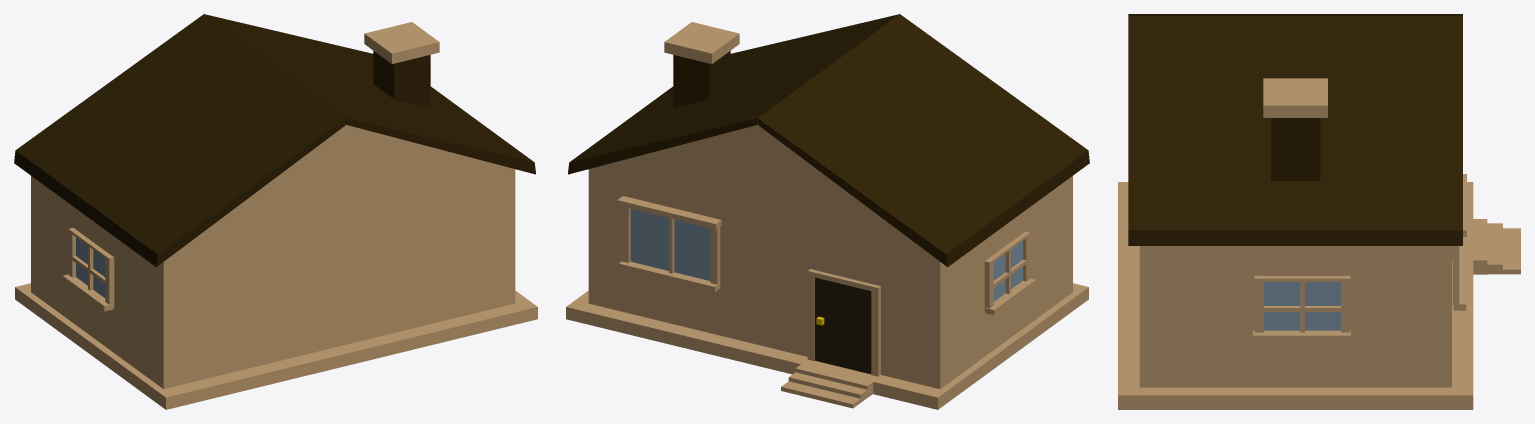
Rendered from Basic Long House Brown Roof.fbx.
The picture shows the model from 3 angles, left to right: view 1: azimuth 30°, elevation 25°; view 2: azimuth 150°, elevation 25°; view 3: azimuth 270°, elevation 25°; orthographic projection. The views are drawn at different scales.
Visible parts, largest first — view 1: pasted__pasted__pasted__pasted__pCube1 (×2), pasted__pasted__pasted__pCube1, pasted__pasted__pCube1 (×2), pasted__pCube1, pasted__pCube2, pasted__pasted__pCube2, pasted__pasted__pasted__pasted__pasted__pasted__pCube1 (×2), pasted__pasted__pasted__pasted__pasted__pCube1; view 2: pasted__pasted__pasted__pCube1 (×3), pasted__pasted__pCube1 (×5), pasted__pCube1, pasted__pasted__pasted__pasted__pasted__pCube1 (×2), pasted__pCube2, pasted__pasted__pasted__pasted__pasted__pasted__pCube1 (×3), pasted__pasted__pCube2, pasted__pasted__pasted__pasted__pasted__pasted__pasted__pCub (×2), pasted__pasted__pasted__pasted__pCube1; view 3: pasted__pasted__pCube1 (×2), pasted__pasted__pasted__pCube1 (×2), pasted__pCube1, pasted__pasted__pasted__pasted__pCube1 (×3), pasted__pCube2, pasted__pasted__pCube2, pasted__pasted__pasted__pasted__pasted__pasted__pCube1 (×2), pasted__pasted__pCube3, pasted__pasted__pasted__pasted__pasted__pasted__pasted__pCub.
Boxes of the visible parts, box(x1,y1,x2,y2) form: pasted__pasted__pasted__pasted__pCube1 (×2): box(68, 124, 514, 388); pasted__pasted__pasted__pCube1: box(14, 14, 346, 267); pasted__pasted__pCube1 (×2): box(31, 14, 535, 389); pasted__pCube1: box(15, 283, 537, 409); pasted__pCube2: box(373, 51, 430, 107); pasted__pasted__pCube2: box(364, 22, 439, 63); pasted__pasted__pasted__pasted__pasted__pasted__pCube1 (×2): box(62, 254, 114, 311); pasted__pasted__pasted__pasted__pasted__pCube1: box(76, 237, 105, 297); pasted__pasted__pasted__pCube1 (×3): box(588, 14, 1089, 388); pasted__pasted__pCube1 (×5): box(568, 14, 1072, 408); pasted__pCube1: box(566, 283, 1088, 409); pasted__pasted__pasted__pasted__pasted__pCube1 (×2): box(630, 209, 1022, 301); pasted__pCube2: box(673, 51, 730, 107); pasted__pasted__pasted__pasted__pasted__pasted__pCube1 (×3): box(619, 226, 1035, 315); pasted__pasted__pCube2: box(664, 22, 739, 63); pasted__pasted__pasted__pasted__pasted__pasted__pasted__pCub (×2): box(617, 196, 721, 262); pasted__pasted__pasted__pasted__pCube1: box(984, 234, 1026, 311); pasted__pasted__pCube1 (×2): box(1128, 16, 1520, 274); pasted__pasted__pasted__pCube1 (×2): box(1128, 14, 1462, 387); pasted__pCube1: box(1118, 182, 1473, 409); pasted__pasted__pasted__pasted__pCube1 (×3): box(1254, 275, 1350, 332); pasted__pCube2: box(1271, 118, 1320, 180); pasted__pasted__pCube2: box(1263, 78, 1327, 117); pasted__pasted__pasted__pasted__pasted__pasted__pCube1 (×2): box(1253, 249, 1466, 341); pasted__pasted__pCube3: box(1263, 306, 1341, 312); pasted__pasted__pasted__pasted__pasted__pasted__pasted__pCub: box(1452, 246, 1459, 305).
Size of the model in its own units: 10.44 by 6.4 by 8.15.
